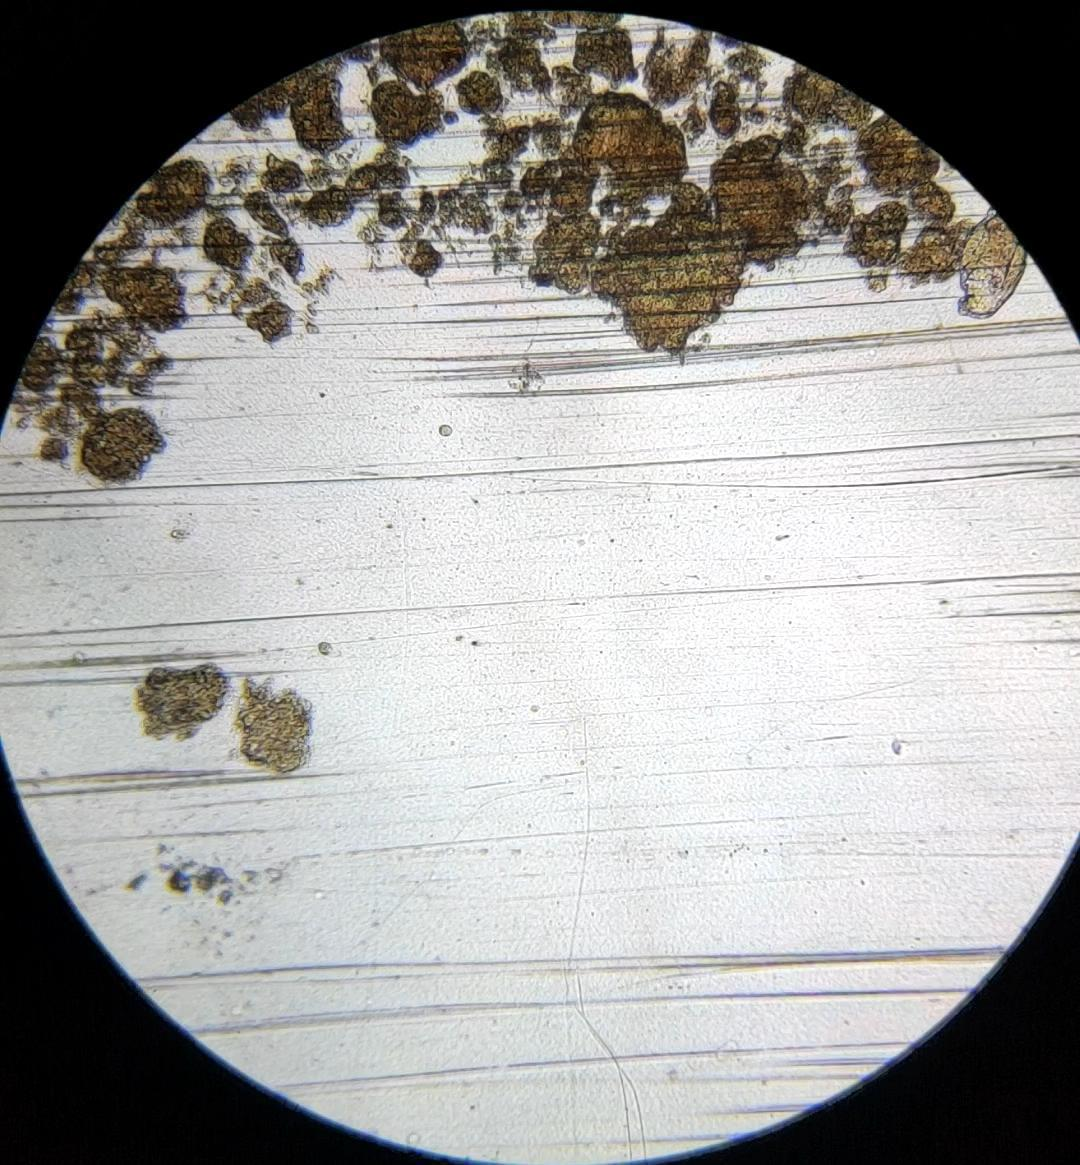Do: (957, 204, 1027, 320)
